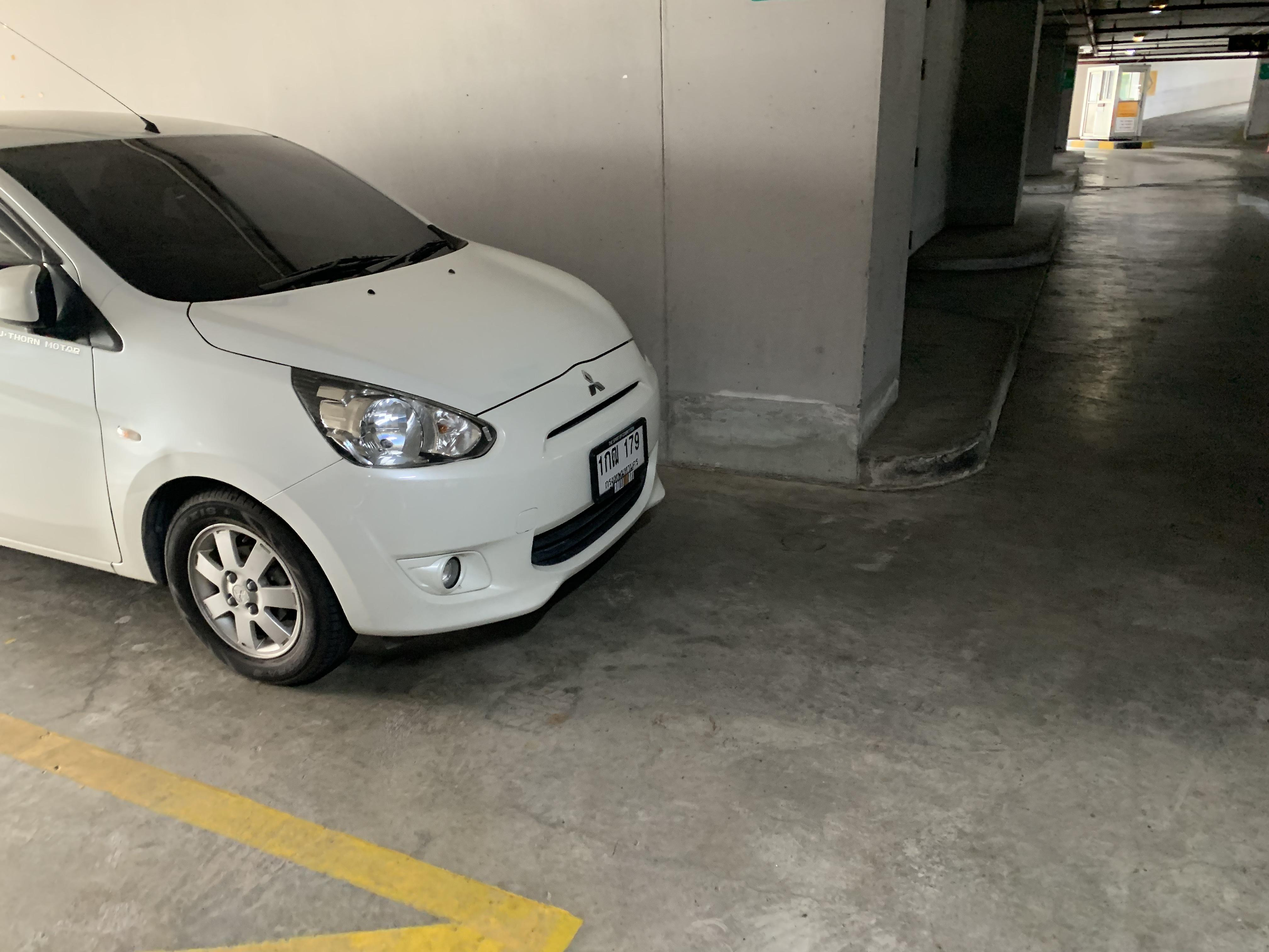license-plate: (586, 412, 652, 507)
